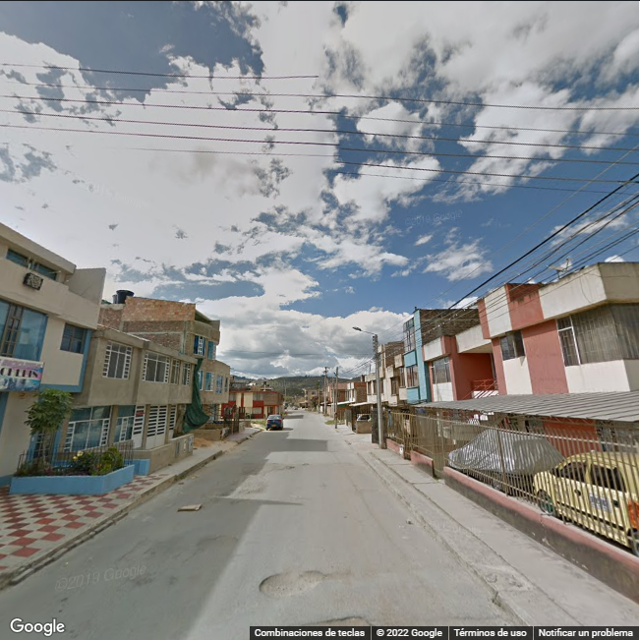D10: (435, 615, 509, 623)
D40: (261, 560, 330, 603)
